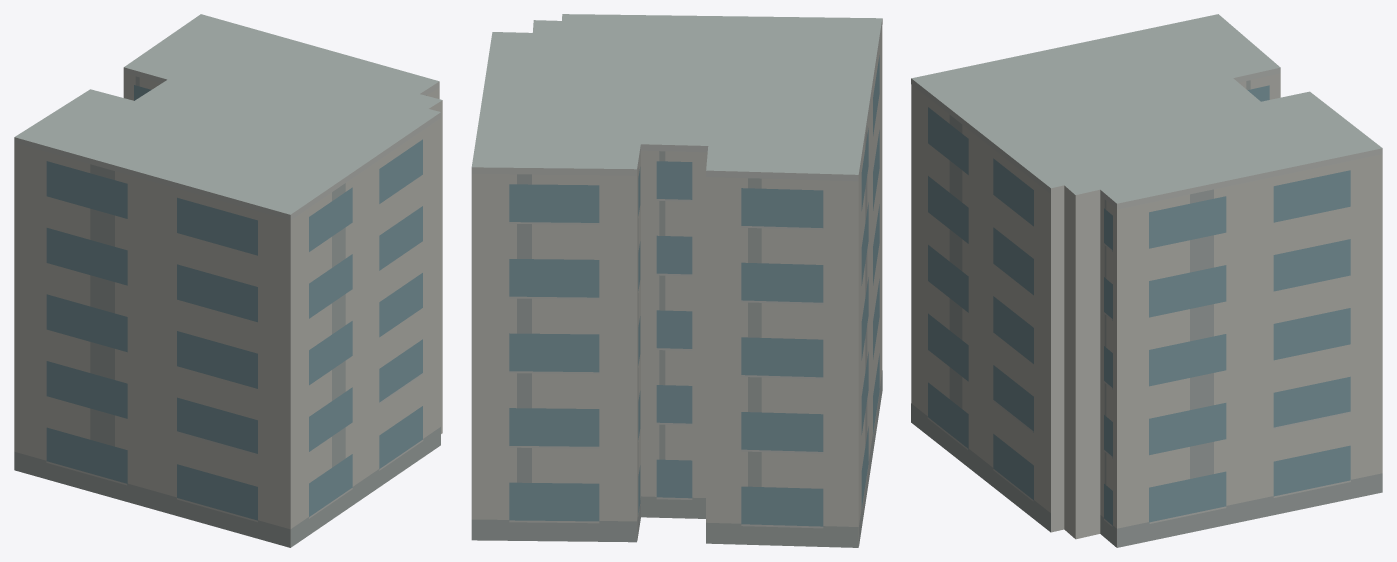
File: survey-upis-32891453.glb
3 views of the same model, side by side, from view 1: azimuth 30°, elevation 25°; view 2: azimuth 150°, elevation 25°; view 3: azimuth 270°, elevation 25° (orthographic). The views are drawn at different scales.
Parts seen in each view (by area): view 1: survey-upis-32891453.tmp; view 2: survey-upis-32891453.tmp; view 3: survey-upis-32891453.tmp.
Boxes of the visible parts, <box> form: survey-upis-32891453.tmp: <box>14,14,442,547</box>; survey-upis-32891453.tmp: <box>471,14,882,547</box>; survey-upis-32891453.tmp: <box>911,14,1382,547</box>.
Size of the model in its own units: 16.79 by 14.2 by 17.64.
